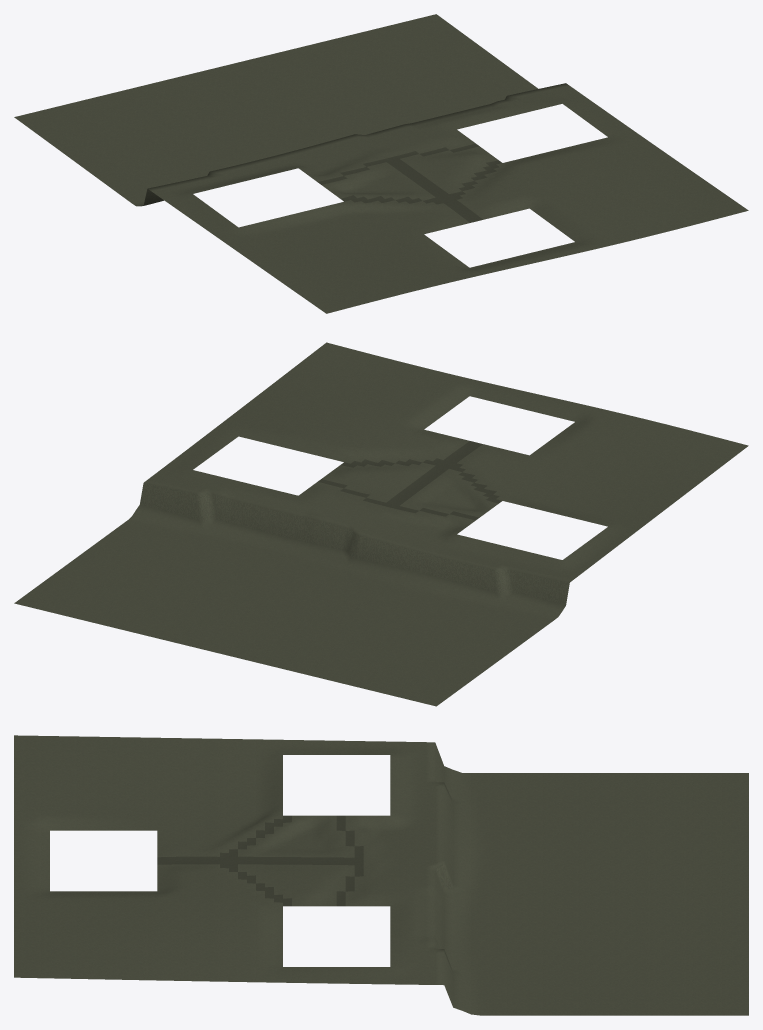
The model's file is level_site_wld_06_terrain.glb.
The picture shows the model from 3 angles, top to bottom: view 1: azimuth 30°, elevation 25°; view 2: azimuth 150°, elevation 25°; view 3: azimuth 270°, elevation 25°; orthographic projection. The views are drawn at different scales.
Visible parts, largest first — view 1: level_site_wld_06_terrain; view 2: level_site_wld_06_terrain; view 3: level_site_wld_06_terrain.
Boxes of the visible parts, bbox=[...] form: level_site_wld_06_terrain: bbox=[14, 14, 748, 313]; level_site_wld_06_terrain: bbox=[14, 342, 748, 706]; level_site_wld_06_terrain: bbox=[14, 735, 748, 1015].
Bounding box in the file's own units: 64 × 4.82 × 82.
2 materials, 2 textured.
